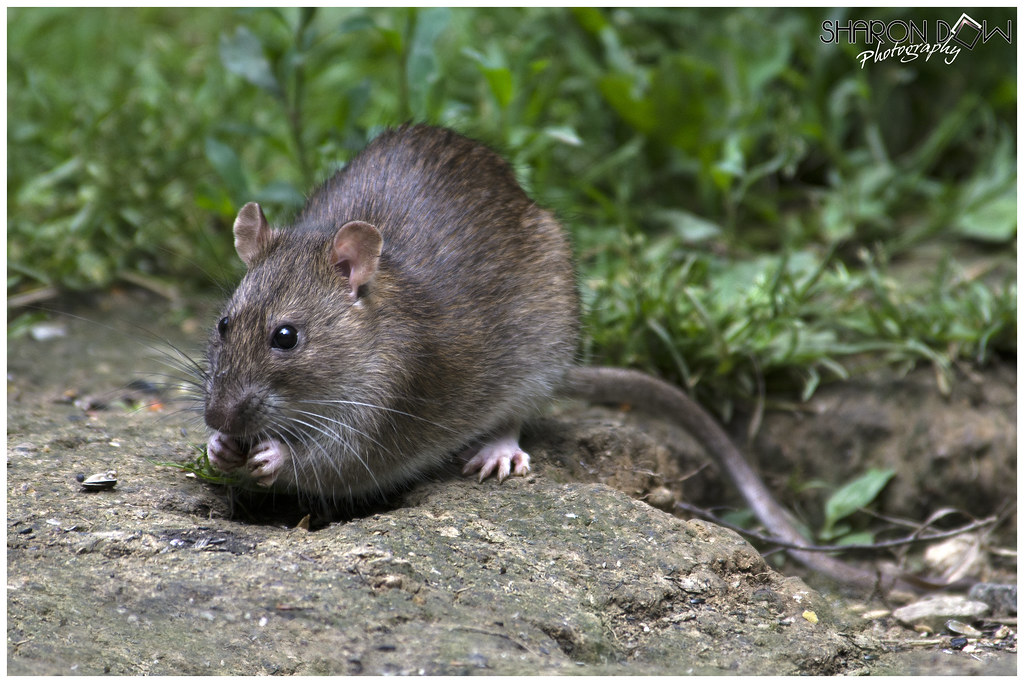rat: (175, 100, 665, 540)
